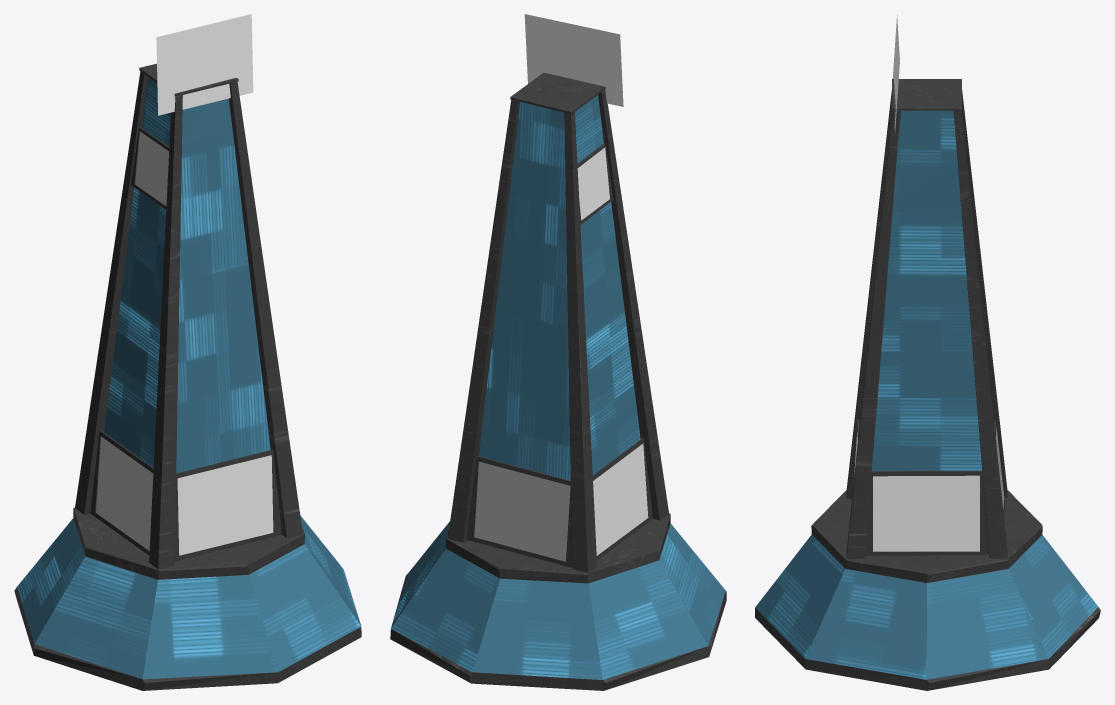
The model's file is BLD1310005.fbx.
3 renders of one model, left to right at view 1: azimuth 30°, elevation 25°; view 2: azimuth 150°, elevation 25°; view 3: azimuth 270°, elevation 25°, orthographic. The views are drawn at different scales.
Visible parts, largest first — view 1: smBLD1310005; view 2: smBLD1310005; view 3: smBLD1310005.
Part boxes in pixels (x1,y1,x2,y2): smBLD1310005: (14, 14, 361, 690); smBLD1310005: (390, 14, 726, 690); smBLD1310005: (755, 15, 1100, 690).
Size of the model in its own units: 1544 by 2856 by 1540.
Materials: 6 (1 with a texture image).
